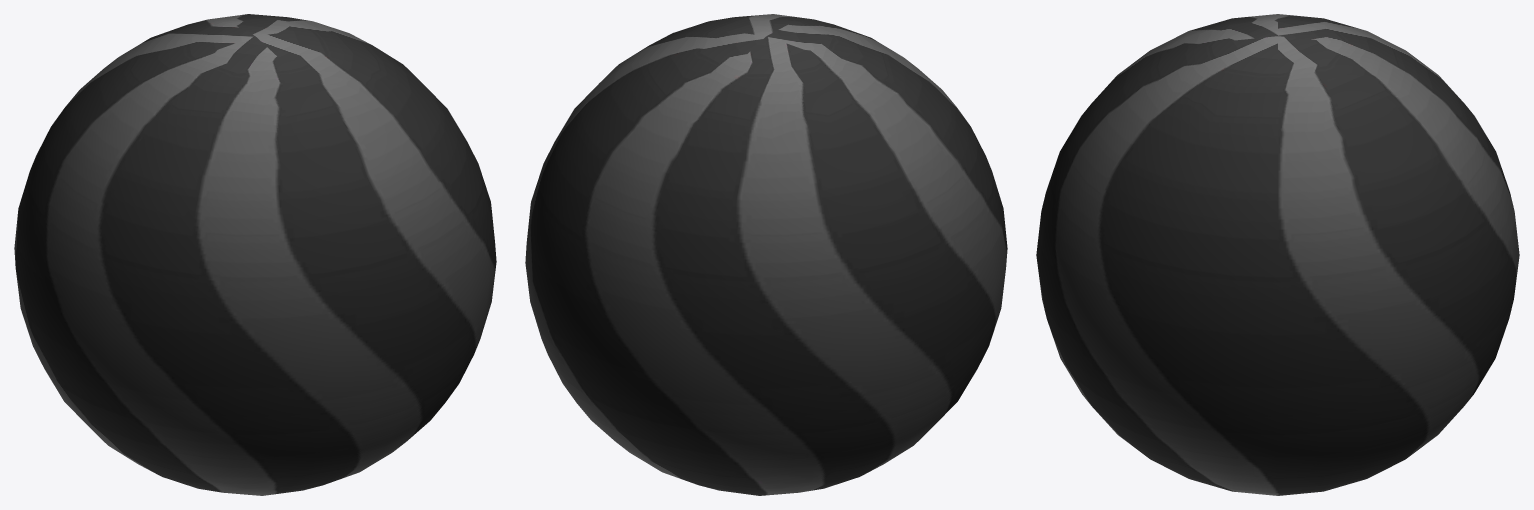
Rendered from LuckySpin.fbx.
3 renders of one model, left to right at view 1: azimuth 30°, elevation 25°; view 2: azimuth 150°, elevation 25°; view 3: azimuth 270°, elevation 25°, orthographic.
Parts seen in each view (by area): view 1: Ball; view 2: Ball; view 3: Ball.
Boxes of the visible parts, x1,y1,x2,y2 form: Ball: [14, 14, 496, 495]; Ball: [525, 14, 1007, 495]; Ball: [1036, 14, 1519, 495].
Size of the model in its own units: 50 by 50 by 50.
1 material, 1 textured.
